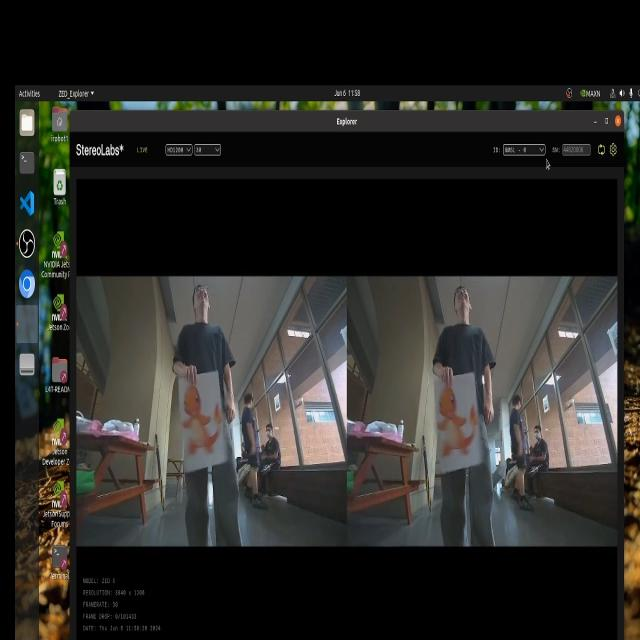red: (436, 382, 484, 463), (184, 384, 223, 465)
